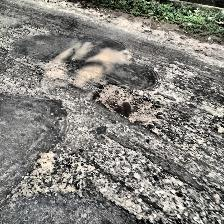pothole: (91, 82, 164, 128), (28, 148, 56, 178)
